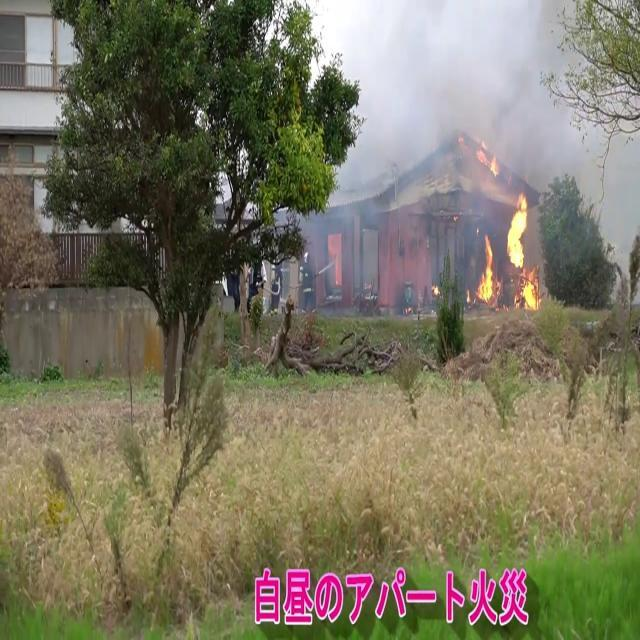Fire: (506, 190, 540, 310), (476, 231, 496, 306), (474, 136, 504, 179)
Smoke: (416, 0, 578, 208)
